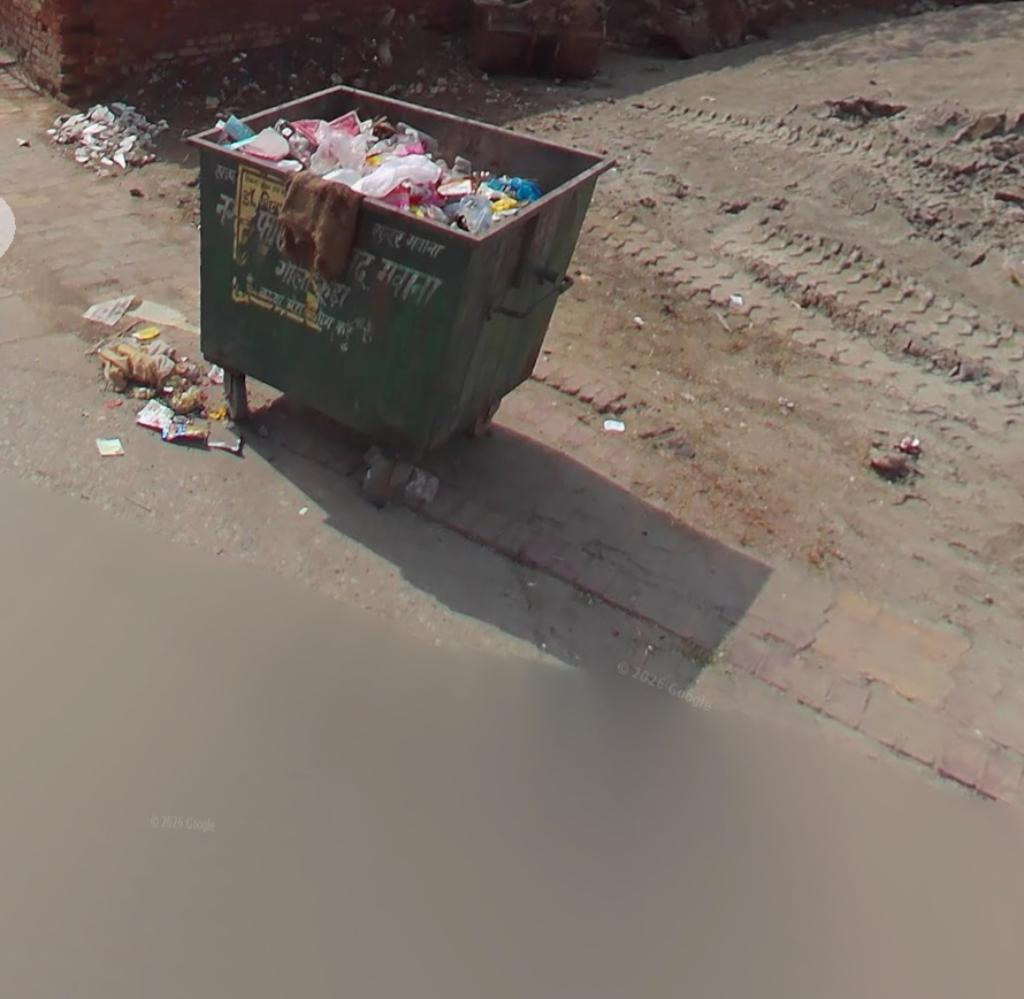dustbin: (160, 76, 623, 512)
